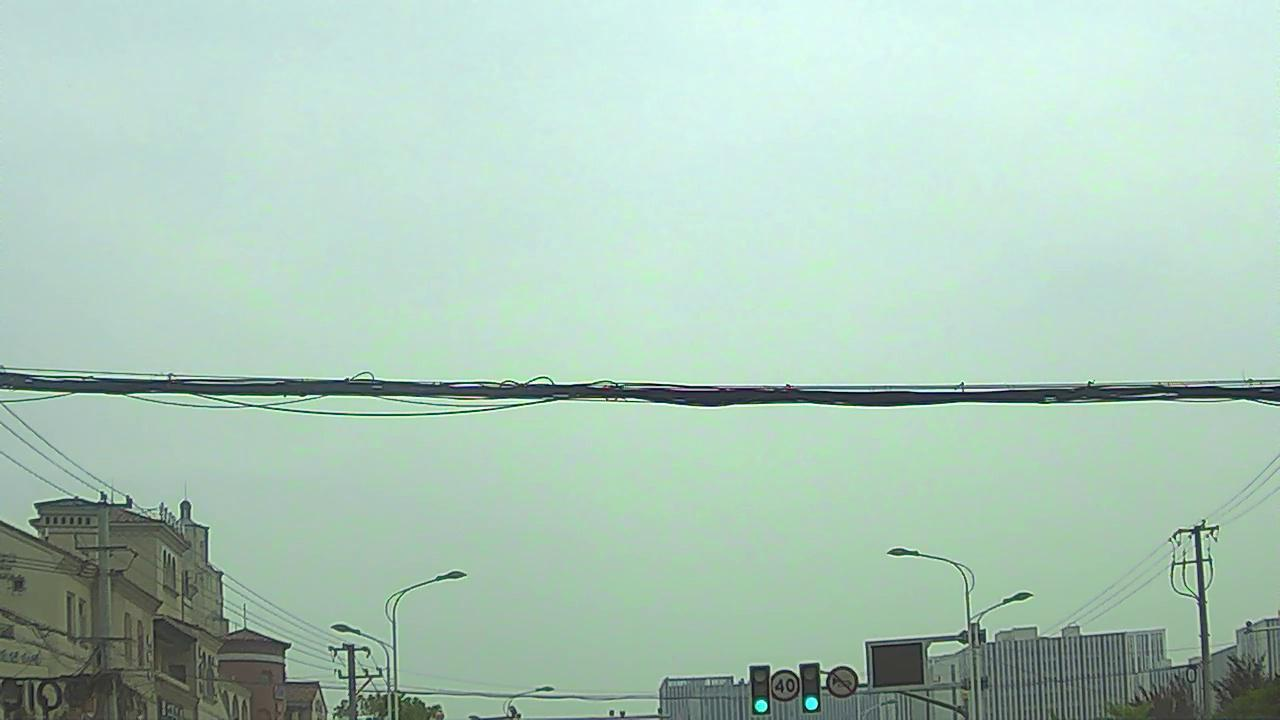traffic_light: (751, 667, 770, 714), (803, 665, 822, 712)
